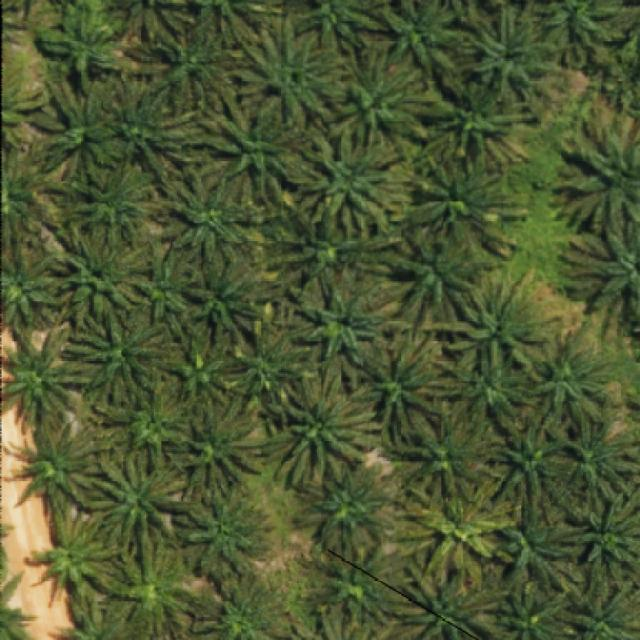Kelapa_Sawit: (286, 265, 412, 397), (254, 364, 384, 488), (231, 13, 355, 132), (95, 520, 217, 640), (401, 477, 522, 595), (347, 331, 456, 460), (401, 153, 530, 261), (270, 199, 402, 303), (285, 132, 413, 239), (200, 83, 314, 199), (330, 47, 455, 151), (46, 222, 160, 333), (125, 14, 246, 117), (389, 221, 505, 328), (102, 74, 209, 189), (55, 303, 174, 406), (398, 399, 505, 510), (28, 75, 129, 190), (442, 266, 549, 374), (176, 252, 286, 356), (158, 169, 273, 268), (88, 449, 192, 557), (466, 5, 572, 107), (486, 412, 577, 530), (218, 316, 312, 429), (7, 417, 110, 518), (436, 334, 536, 438), (527, 316, 618, 426), (170, 409, 262, 517), (297, 462, 397, 560), (95, 378, 197, 474), (174, 488, 277, 582), (437, 75, 538, 168), (66, 156, 162, 253), (492, 505, 592, 597), (26, 497, 116, 598), (320, 537, 414, 629), (36, 4, 127, 98), (159, 322, 252, 413), (125, 246, 202, 328)
